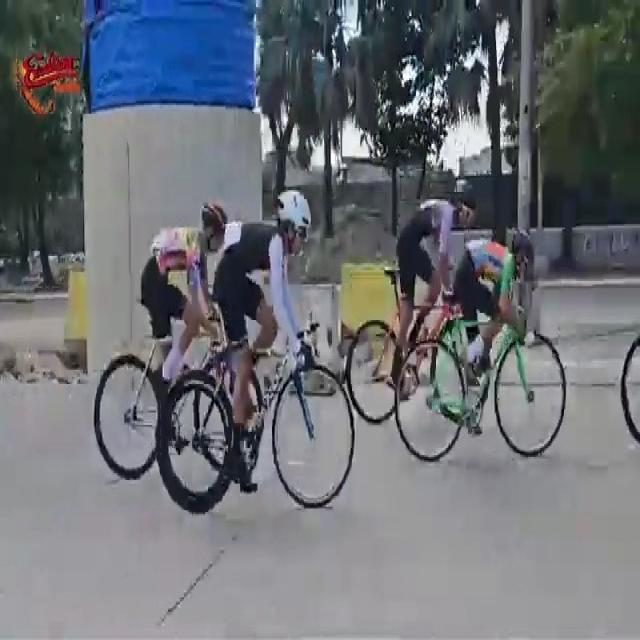bike: (156, 188, 355, 516), (94, 193, 266, 478), (396, 230, 566, 467), (348, 185, 492, 426), (617, 334, 640, 452)
